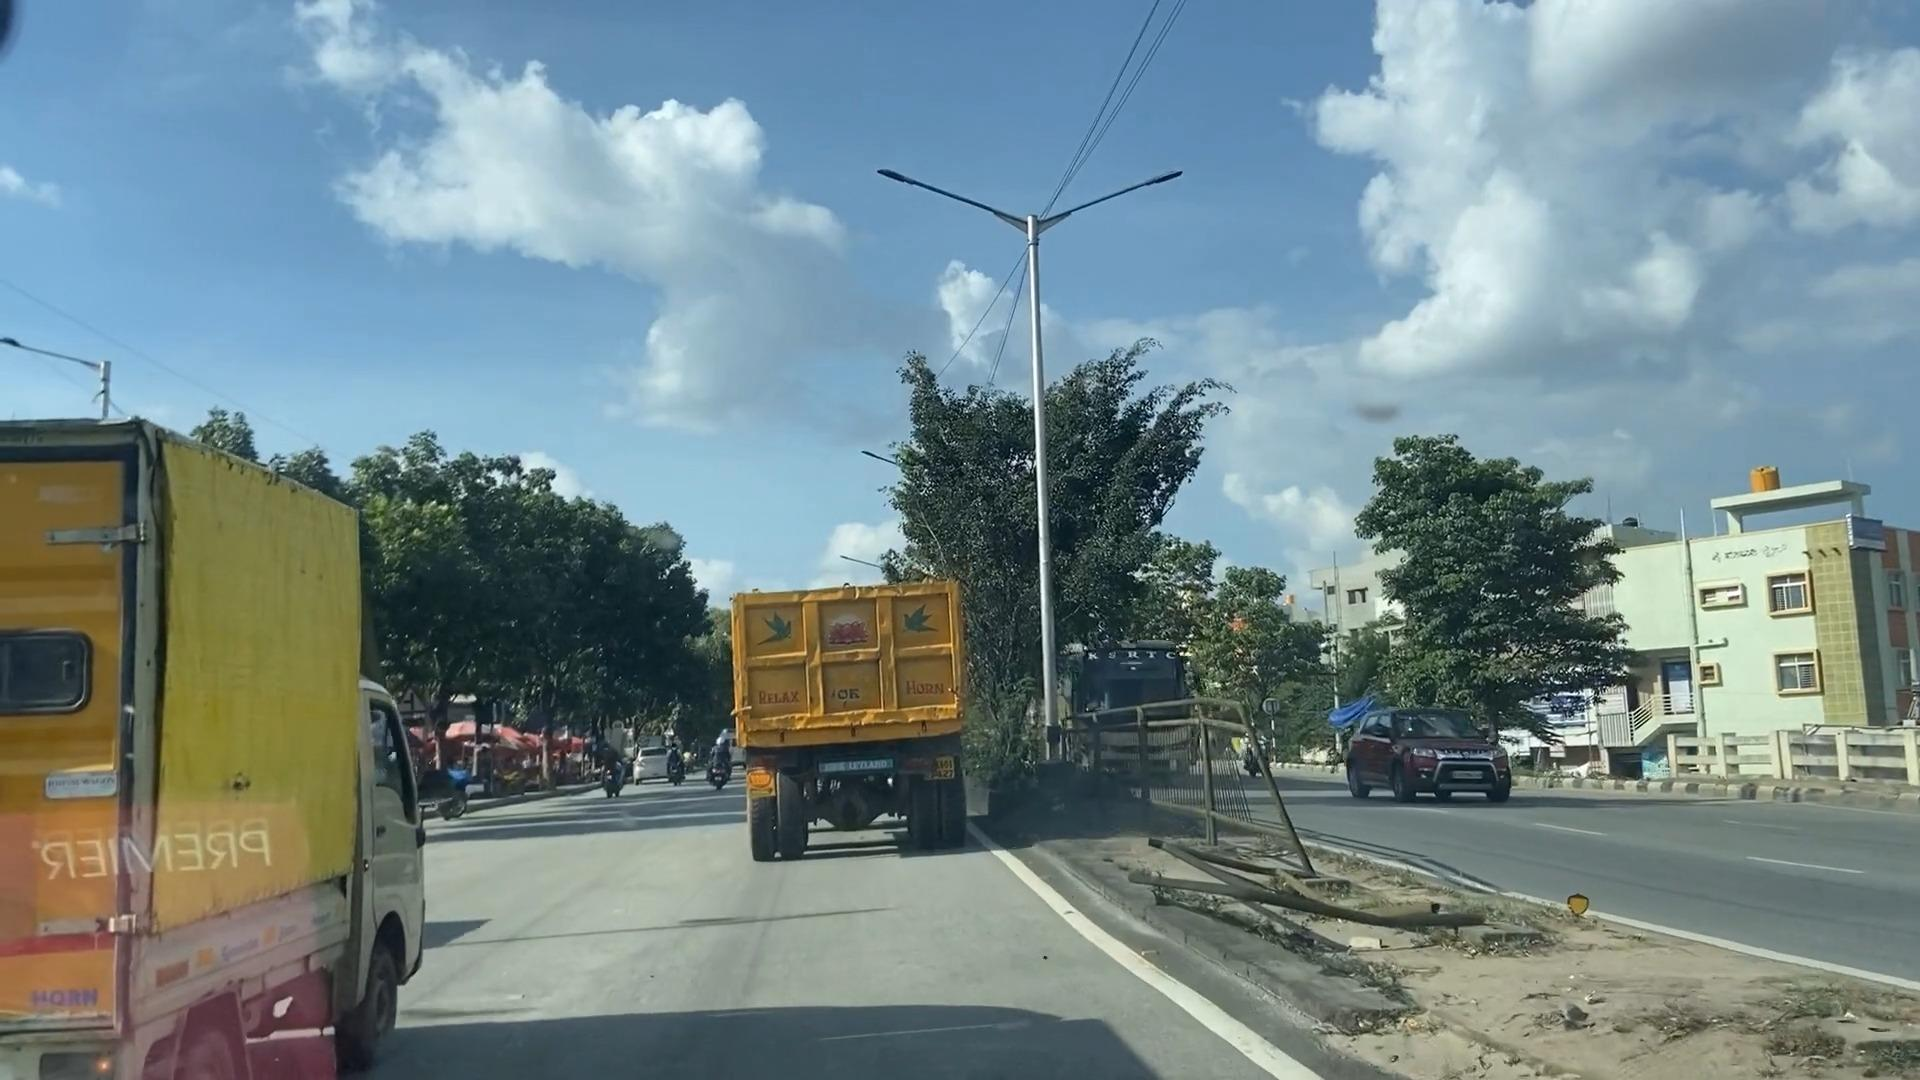HMV: (1, 400, 430, 1080), (705, 583, 972, 869)
